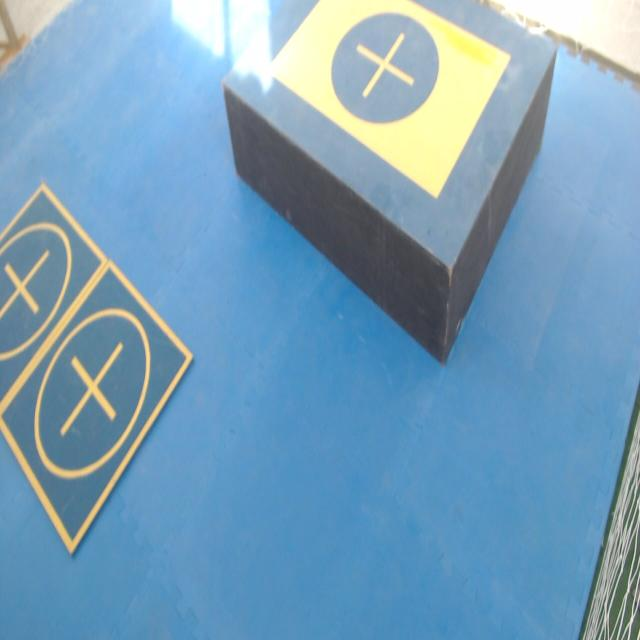base_inicio: (265, 0, 511, 199)
base_pouso: (0, 256, 195, 557), (0, 178, 107, 408)
